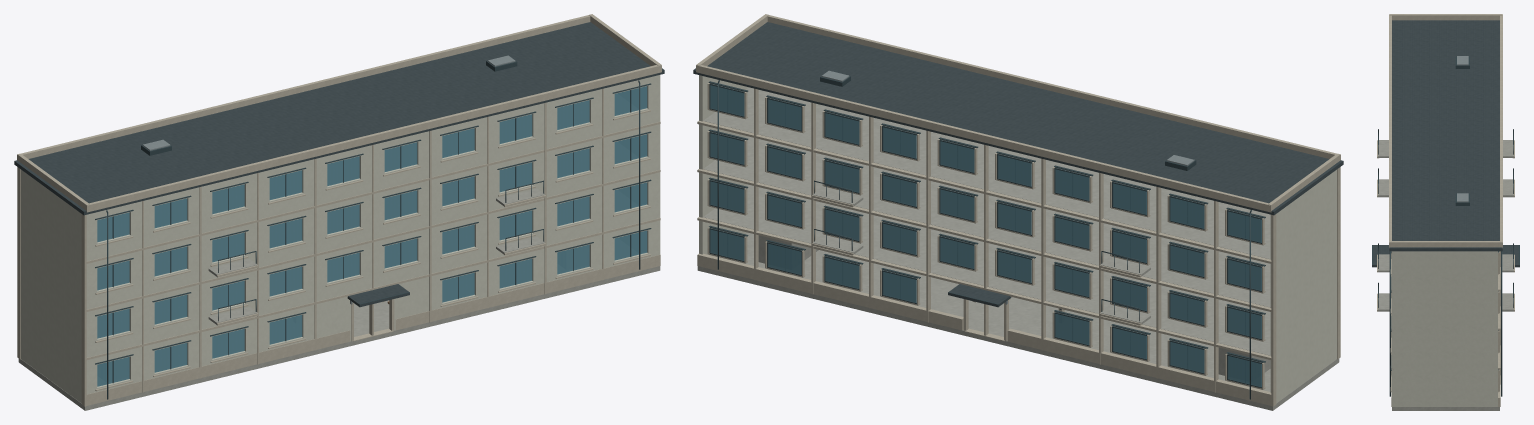
3 renders of one model, left to right at view 1: azimuth 30°, elevation 25°; view 2: azimuth 150°, elevation 25°; view 3: azimuth 270°, elevation 25°, orthographic. The views are drawn at different scales.
Parts seen in each view (by area): view 1: VIS_Masonry_Wall, VIS_Roof_Slab, VIS_Window_Glass, VIS_Gable_Wall, VIS_Roof_Parapet_Long, VIS_Ground_Sockle, VIS_Stone_Vertical_Pilaster, VIS_Horizontal_Band, VIS_Foundation, VIS_Sill, VIS_Window_Drip_Edge, VIS_Balcony_Slab (+5 smaller); view 2: VIS_Intermediate_Slab, VIS_Roof_Slab, VIS_Window_Glass, VIS_Gable_Wall, VIS_Foundation, VIS_Stone_Vertical_Pilaster, VIS_Roof_Parapet_Long, VIS_Horizontal_Band, VIS_Ground_Sockle, VIS_Window_Reveal, VIS_Window_Frame, VIS_Window_Drip_Edge (+8 smaller); view 3: VIS_Roof_Slab, VIS_Gable_Wall, VIS_Balcony_Slab, VIS_Roof_Parapet_Long, VIS_Roof_Parapet_Right, VIS_Roof_Parapet_Left, VIS_Rainwater_Downpipe, VIS_Masonry_Wall, VIS_Foundation, VIS_Entrance_Canopy, VIS_Rooftop_Louvres, VIS_Horizontal_Band (+4 smaller).
Part boxes in pixels (x1=…): VIS_Masonry_Wall: x1=86, y1=75, x2=660, y2=394; VIS_Roof_Slab: x1=14, y1=22, x2=664, y2=215; VIS_Window_Glass: x1=97, y1=86, x2=647, y2=386; VIS_Gable_Wall: x1=21, y1=169, x2=81, y2=402; VIS_Roof_Parapet_Long: x1=17, y1=15, x2=661, y2=212; VIS_Ground_Sockle: x1=86, y1=254, x2=660, y2=405; VIS_Stone_Vertical_Pilaster: x1=17, y1=88, x2=603, y2=406; VIS_Horizontal_Band: x1=86, y1=121, x2=660, y2=359; VIS_Foundation: x1=18, y1=266, x2=660, y2=410; VIS_Sill: x1=95, y1=110, x2=650, y2=391; VIS_Window_Drip_Edge: x1=95, y1=83, x2=651, y2=364; VIS_Balcony_Slab: x1=208, y1=188, x2=545, y2=324; VIS_Intermediate_Slab: x1=703, y1=87, x2=1270, y2=355; VIS_Roof_Slab: x1=693, y1=22, x2=1343, y2=215; VIS_Window_Glass: x1=710, y1=85, x2=1261, y2=386; VIS_Gable_Wall: x1=699, y1=75, x2=1336, y2=402; VIS_Foundation: x1=697, y1=232, x2=1339, y2=410; VIS_Stone_Vertical_Pilaster: x1=754, y1=88, x2=1340, y2=406; VIS_Roof_Parapet_Long: x1=696, y1=15, x2=1340, y2=212; VIS_Horizontal_Band: x1=697, y1=120, x2=1271, y2=359; VIS_Ground_Sockle: x1=697, y1=253, x2=1271, y2=405; VIS_Window_Reveal: x1=707, y1=83, x2=1264, y2=389; VIS_Window_Frame: x1=709, y1=83, x2=1262, y2=388; VIS_Window_Drip_Edge: x1=708, y1=81, x2=1265, y2=362; VIS_Roof_Slab: x1=1389, y1=20, x2=1502, y2=251; VIS_Gable_Wall: x1=1394, y1=251, x2=1497, y2=406; VIS_Balcony_Slab: x1=1378, y1=140, x2=1513, y2=311; VIS_Roof_Parapet_Long: x1=1389, y1=14, x2=1502, y2=247; VIS_Roof_Parapet_Right: x1=1389, y1=241, x2=1502, y2=247; VIS_Roof_Parapet_Left: x1=1389, y1=14, x2=1502, y2=20; VIS_Rainwater_Downpipe: x1=1389, y1=251, x2=1502, y2=396; VIS_Masonry_Wall: x1=1391, y1=251, x2=1393, y2=406; VIS_Foundation: x1=1392, y1=407, x2=1499, y2=410; VIS_Entrance_Canopy: x1=1372, y1=245, x2=1519, y2=267; VIS_Rooftop_Louvres: x1=1457, y1=56, x2=1468, y2=202; VIS_Horizontal_Band: x1=1391, y1=267, x2=1500, y2=369.
Size of the model in its own units: 40.4 by 13.76 by 10.94.
8 materials, 8 textured.
